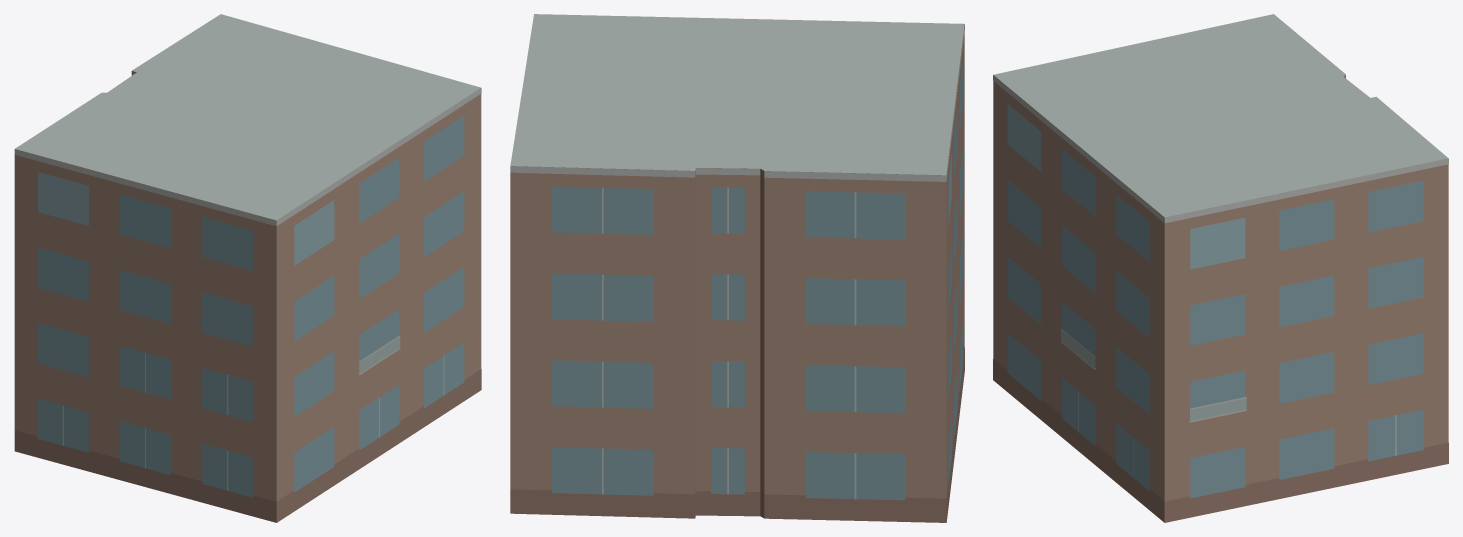
The model's file is survey-upis-32736502.glb.
3 renders of one model, left to right at view 1: azimuth 30°, elevation 25°; view 2: azimuth 150°, elevation 25°; view 3: azimuth 270°, elevation 25°, orthographic. The views are drawn at different scales.
Parts seen in each view (by area): view 1: survey-upis-32736502.tmp; view 2: survey-upis-32736502.tmp; view 3: survey-upis-32736502.tmp.
Boxes of the visible parts, x1=… form: survey-upis-32736502.tmp: x1=14, y1=14, x2=481, y2=522; survey-upis-32736502.tmp: x1=510, y1=14, x2=964, y2=522; survey-upis-32736502.tmp: x1=993, y1=14, x2=1448, y2=522.
Size of the model in its own units: 18.01 by 12.6 by 17.04.
